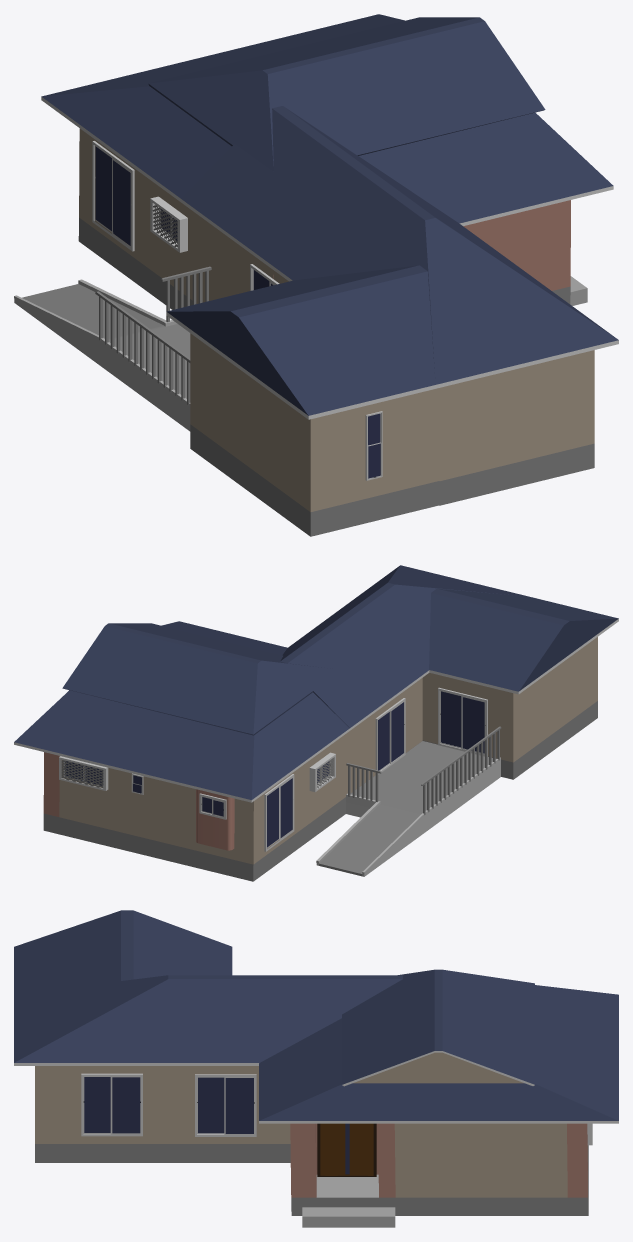
The model's file is house011_middle.fbx.
3 views of the same model, one above another, from view 1: azimuth 30°, elevation 25°; view 2: azimuth 150°, elevation 25°; view 3: azimuth 270°, elevation 25° (orthographic). The views are drawn at different scales.
Visible parts, largest first — view 1: house011; view 2: house011; view 3: house011.
Boxes of the visible parts, left/top/right/bottom form: house011: left=14, top=14, right=618, bottom=536; house011: left=14, top=565, right=618, bottom=881; house011: left=14, top=910, right=618, bottom=1227.
Size of the model in its own units: 947 by 430 by 1385.
